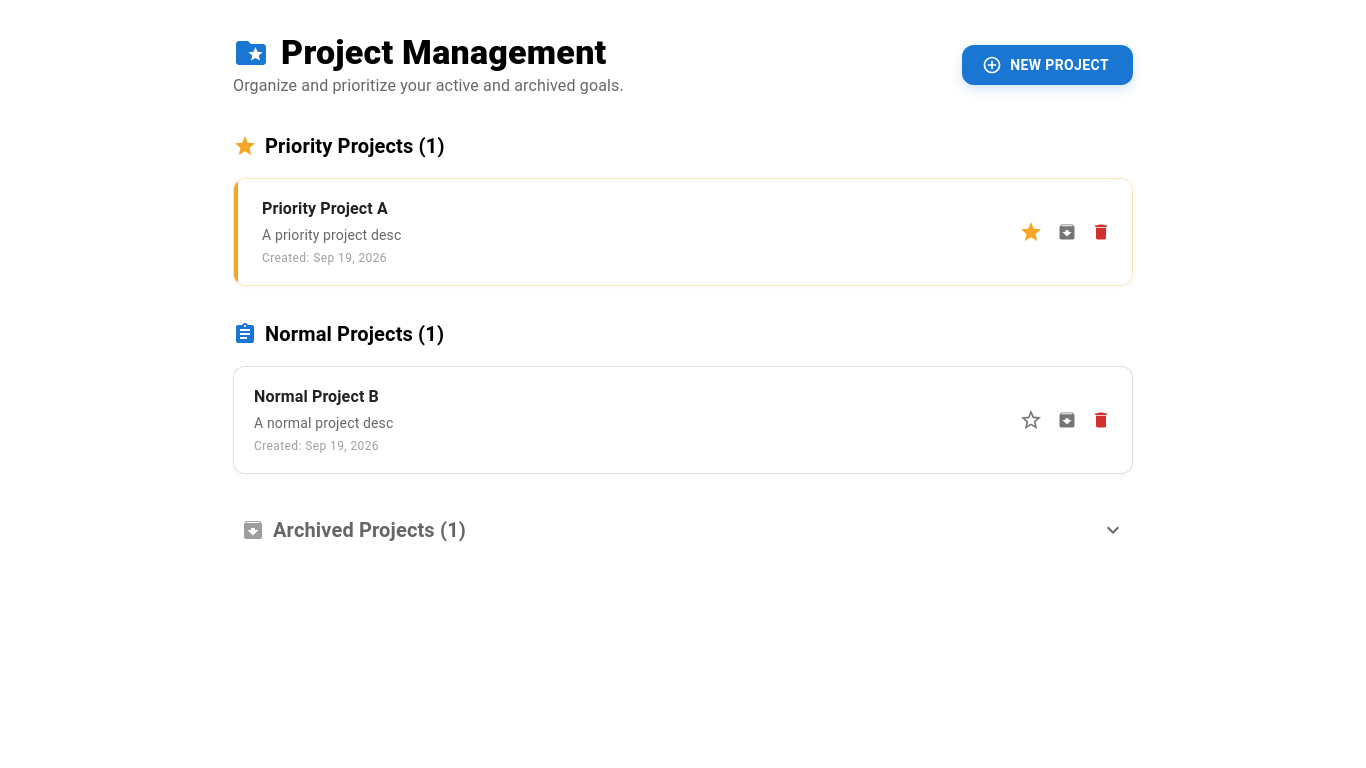
Test: ProjectManagement Component › opens project details modal on card click
The image size is (1366, 768).
Click on Priority Project A card content
Click the heading "Priority Project A": x=325, y=208 x1=262 y1=199 x2=388 y2=218
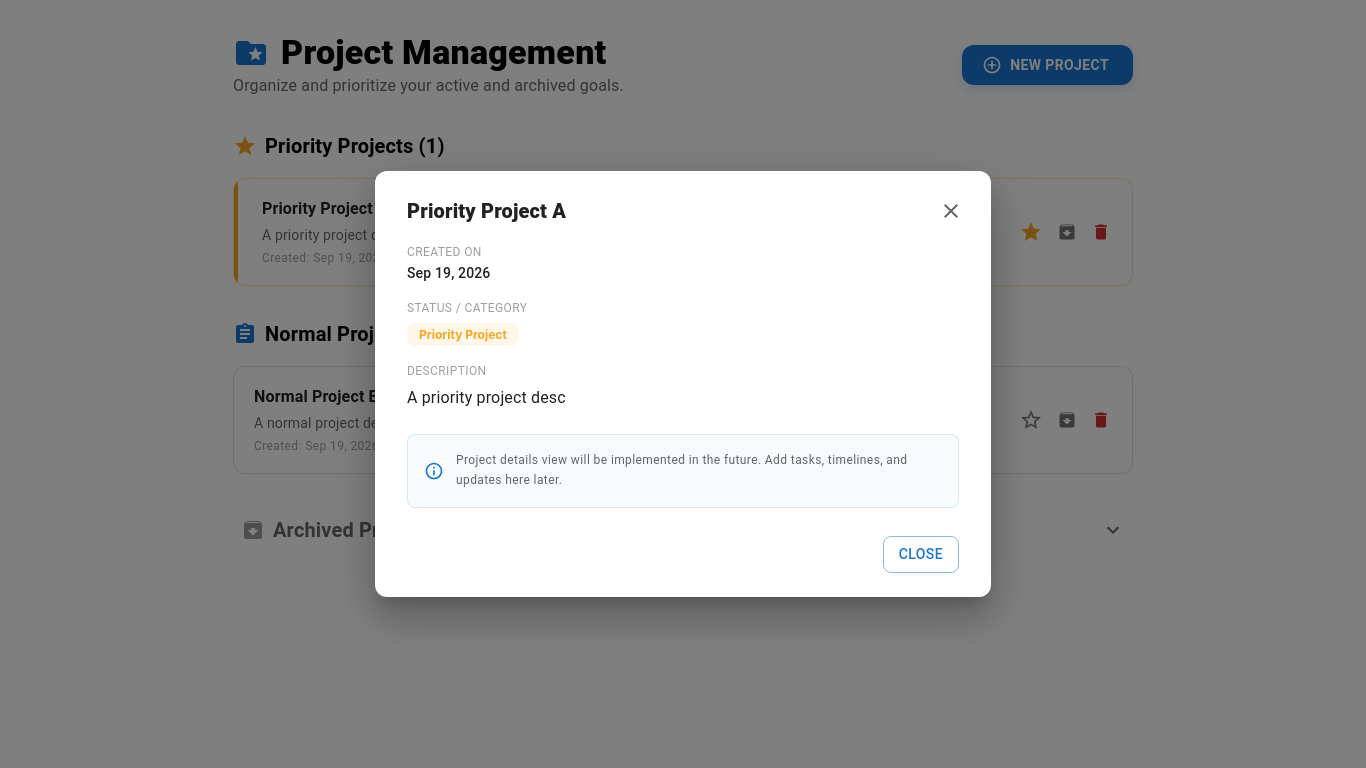
Expected: the text "A priority project desc" is shown, x1=407 y1=388 x2=566 y2=407
Expected: the heading "Priority Project A" is shown, x1=383 y1=180 x2=983 y2=244
Expected: the text "Project details view will be implemented in the future. Add tasks, timelines, and updates here later." is shown, x1=456 y1=453 x2=908 y2=487
